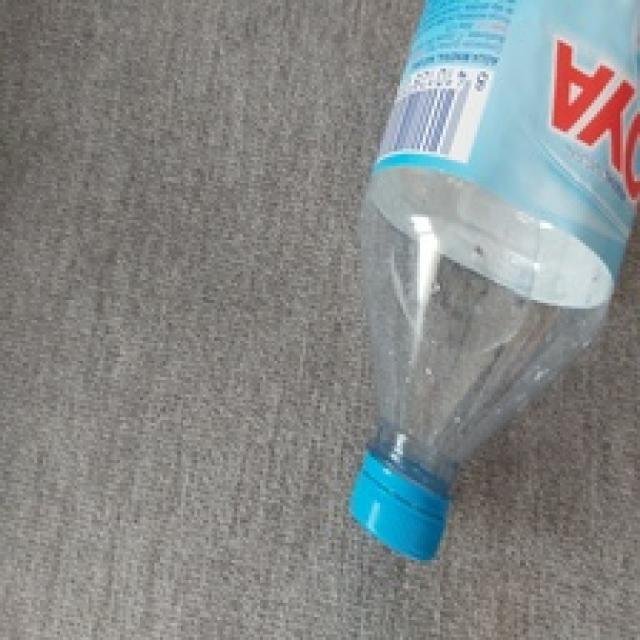plastic_bottle: (348, 0, 640, 560)
